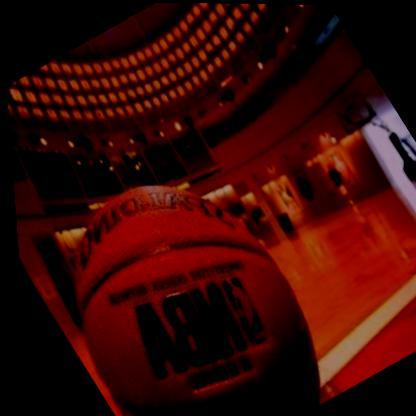basketball: (8, 131, 354, 416)
